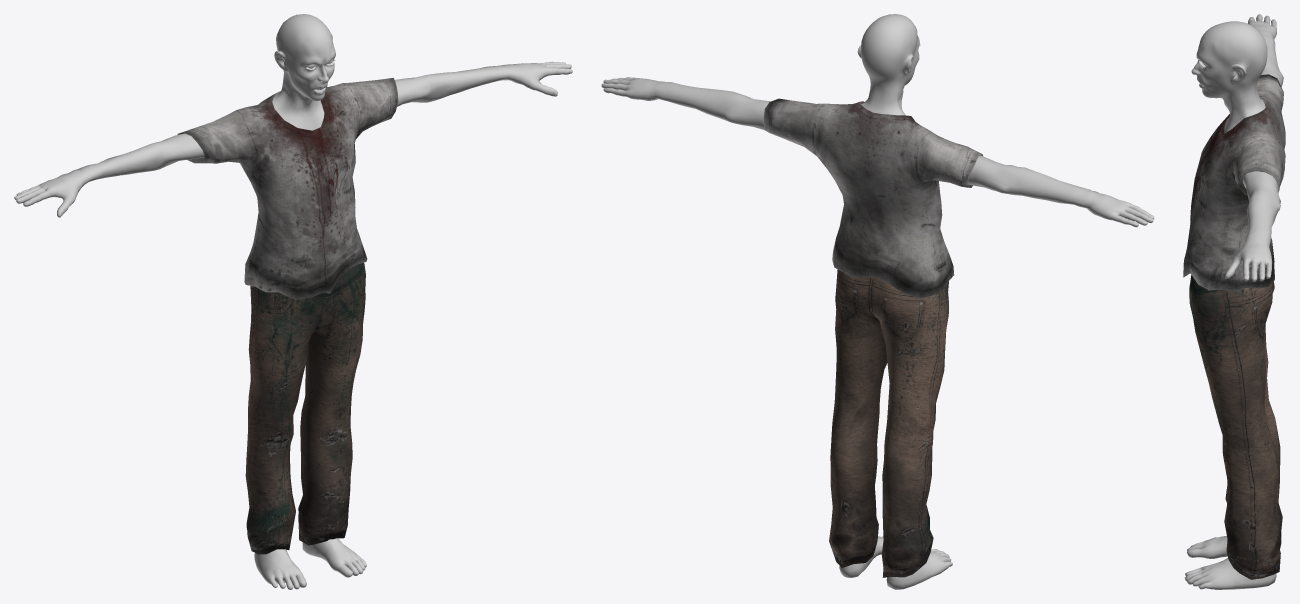
Rendered from Zombie.dae.
3 renders of one model, left to right at view 1: azimuth 30°, elevation 25°; view 2: azimuth 150°, elevation 25°; view 3: azimuth 270°, elevation 25°, orthographic.
Visible parts, largest first — view 1: Bottoms, Tops, Body; view 2: Bottoms, Tops, Body; view 3: Bottoms, Body, Tops.
Boxes of the visible parts, <box> form: Bottoms: <box>245,262,365,554</box>; Tops: <box>177,78,398,299</box>; Body: <box>14,14,572,589</box>; Bottoms: <box>829,269,948,577</box>; Tops: <box>763,98,983,298</box>; Body: <box>601,14,1154,589</box>; Bottoms: <box>1189,275,1282,579</box>; Body: <box>1185,14,1283,589</box>; Tops: <box>1183,74,1285,291</box>.
Bounding box in the file's own units: 187 × 179 × 30.28.
